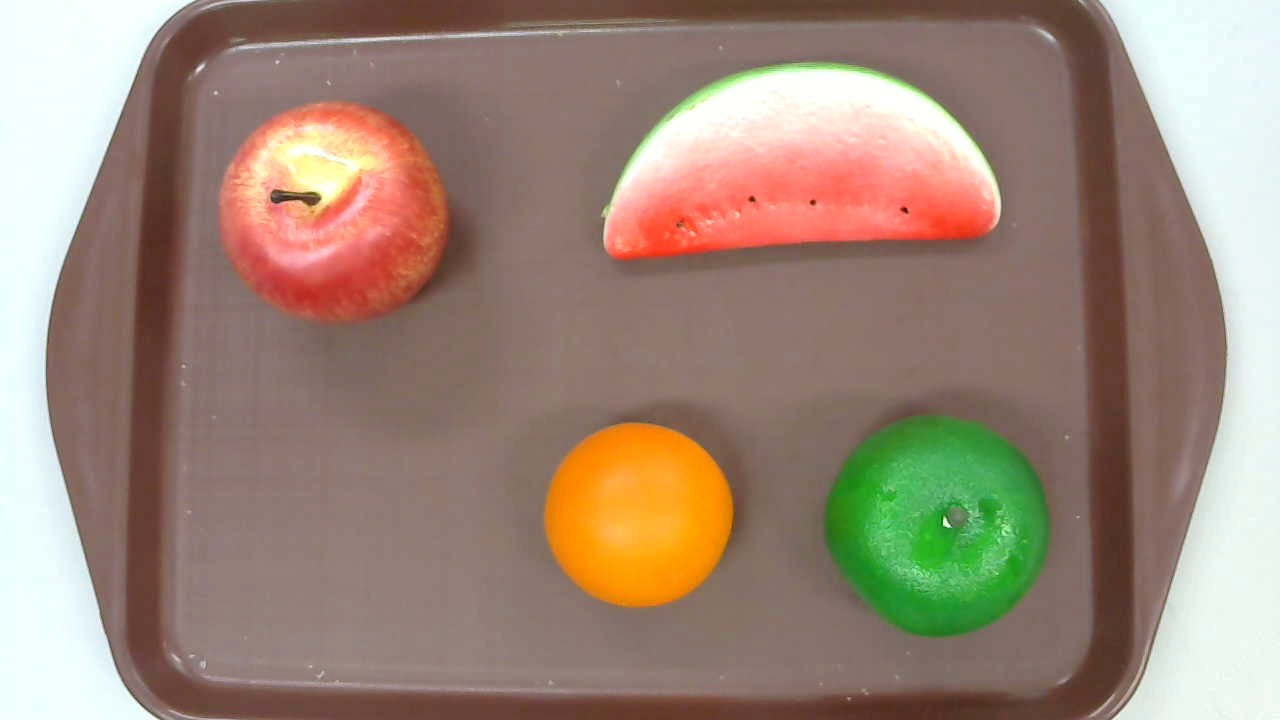bun: (542, 422, 735, 607)
green orange: (824, 415, 1051, 637)
red apple: (217, 99, 451, 328)
water melon: (602, 60, 1002, 263)
